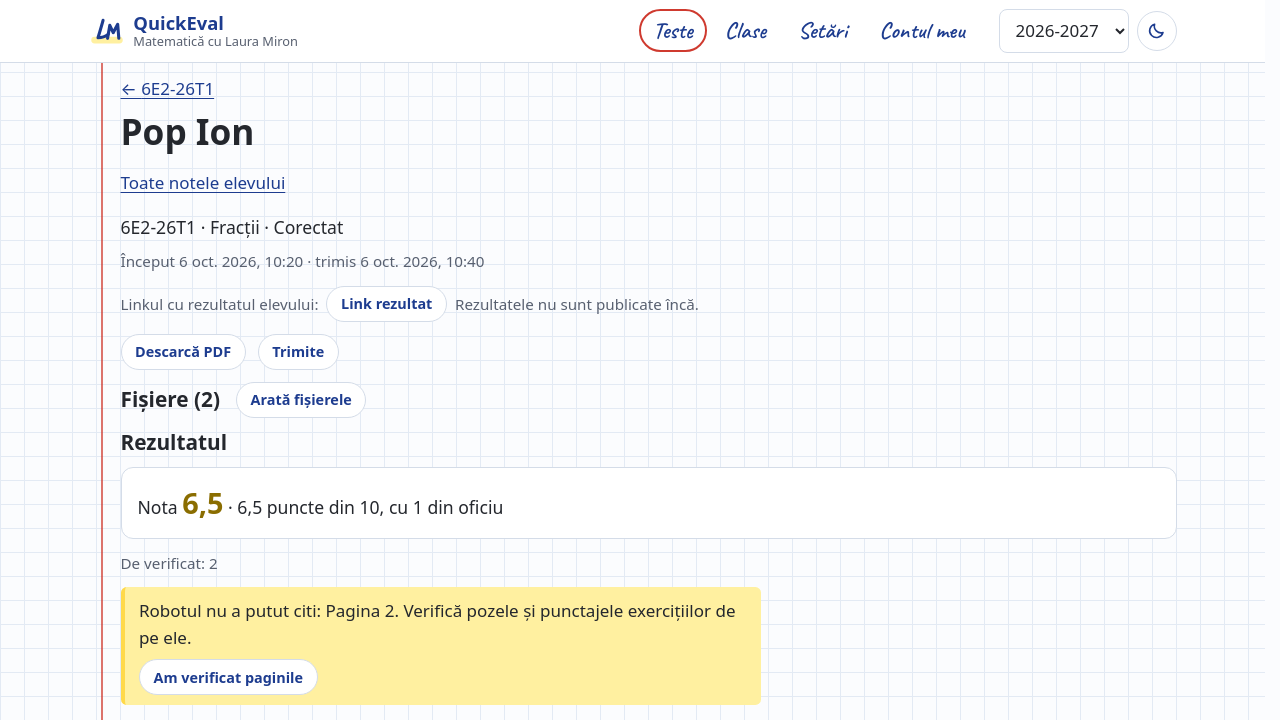
Test case: SubmissionPage › names the pages that the robot could not read, until the teacher checks them
The width and height of the screenshot is (1280, 720).
Expected: the text "Robotul nu a putut citi: Pagina 2." is shown, [139, 597, 746, 651]
Step 1. Click the button "Am verificat paginile" → (228, 677), box [139, 659, 318, 695]
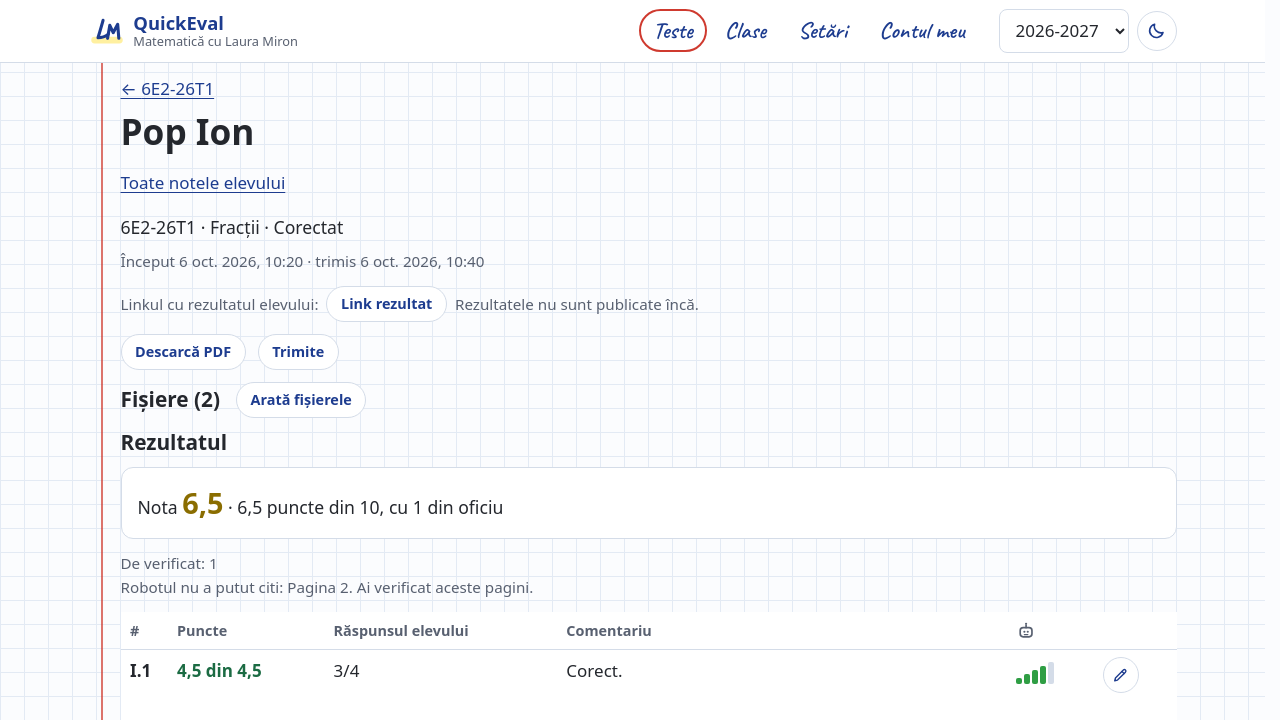
Result: the text "Robotul nu a putut citi: Pagina 2. Ai verificat aceste pagini." is shown at [120, 577, 533, 597]
Result: the text "De verificat: 1" is shown at [120, 553, 218, 573]
